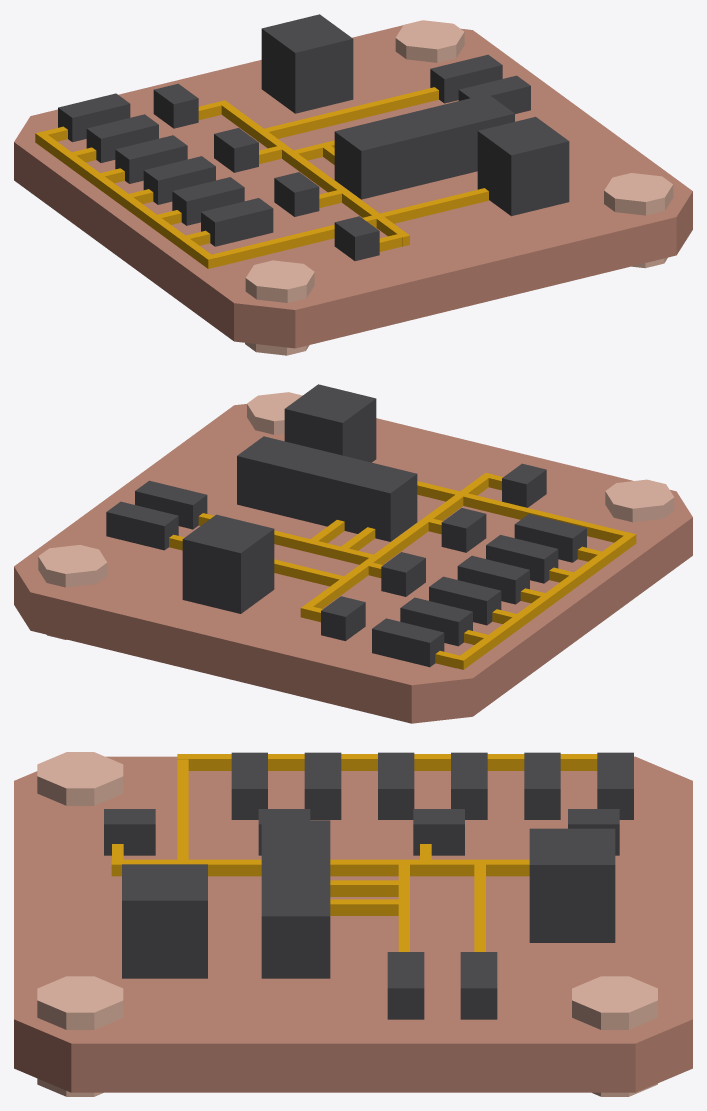
File: Circuit Board.fbx
The picture shows the model from 3 angles, top to bottom: view 1: azimuth 30°, elevation 25°; view 2: azimuth 150°, elevation 25°; view 3: azimuth 270°, elevation 25°; orthographic projection. The views are drawn at different scales.
Visible parts, largest first — view 1: Circuit Board; view 2: Circuit Board; view 3: Circuit Board.
Boxes of the visible parts, x1,y1,x2,y2 form: Circuit Board: (14,14,692,355); Circuit Board: (14,384,692,723); Circuit Board: (14,752,692,1096).
Size of the model in its own units: 2 by 0.4718 by 2.
